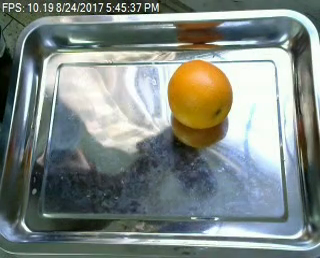Orange: (166, 59, 231, 127)
